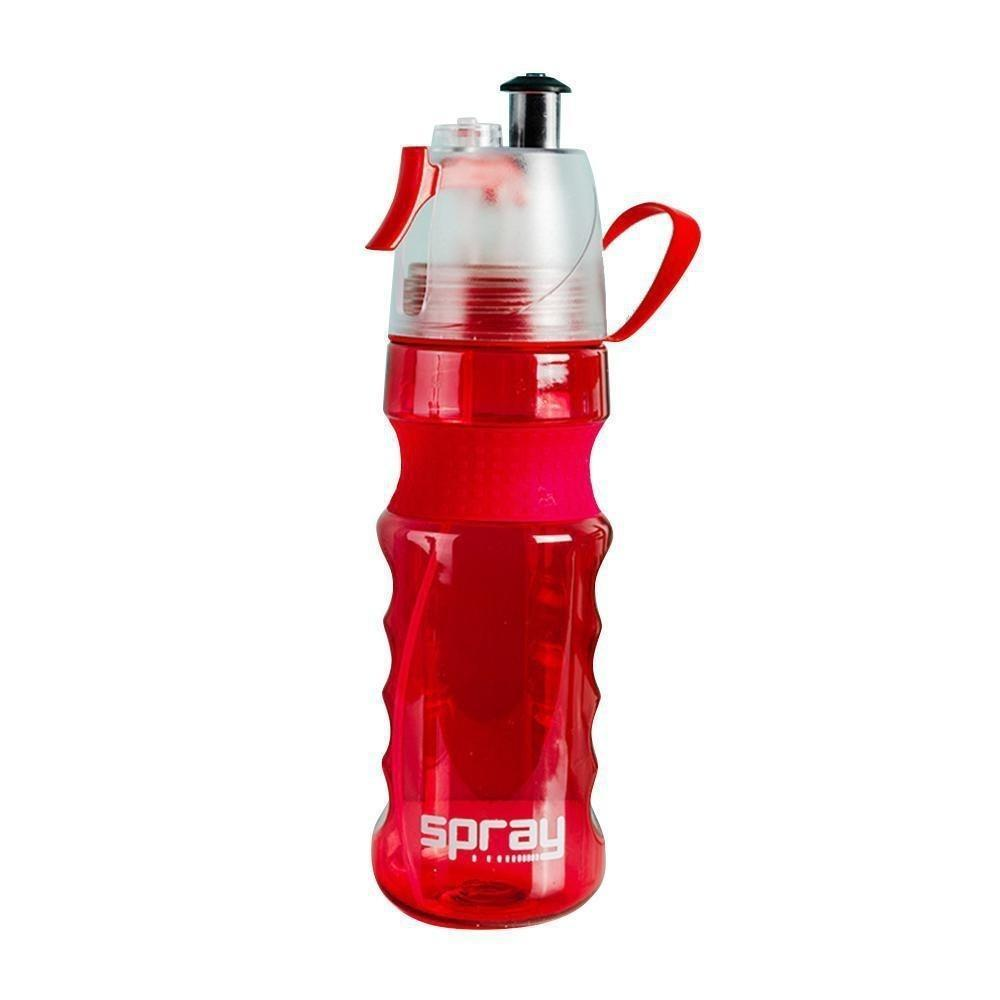gym bottle: (367, 81, 697, 937)
